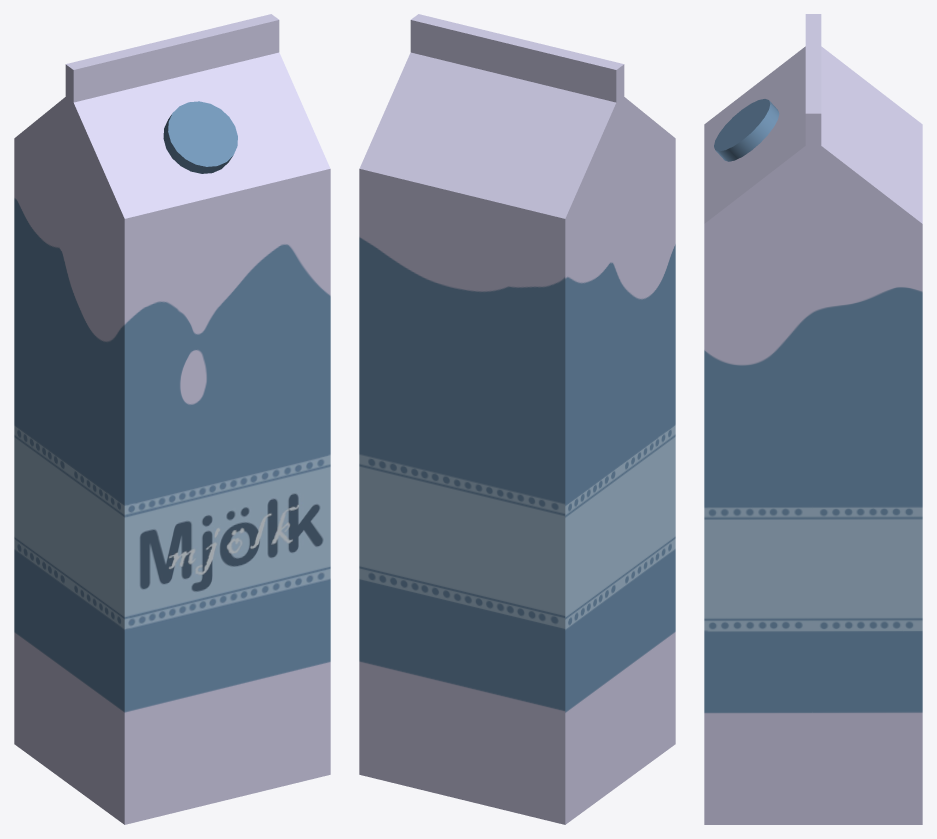
The model's file is mjölk.unity.fbx.
3 views of the same model, side by side, from view 1: azimuth 30°, elevation 25°; view 2: azimuth 150°, elevation 25°; view 3: azimuth 270°, elevation 25° (orthographic).
Parts seen in each view (by area): view 1: pCylinder2; view 2: pCylinder2; view 3: pCylinder2.
Boxes of the visible parts, <box> form: pCylinder2: <box>14,14,330,824</box>; pCylinder2: <box>359,14,675,824</box>; pCylinder2: <box>704,14,922,824</box>.
Size of the model in its own units: 0.7129 by 2.37 by 0.6613.
Materials: 1 (1 with a texture image).
